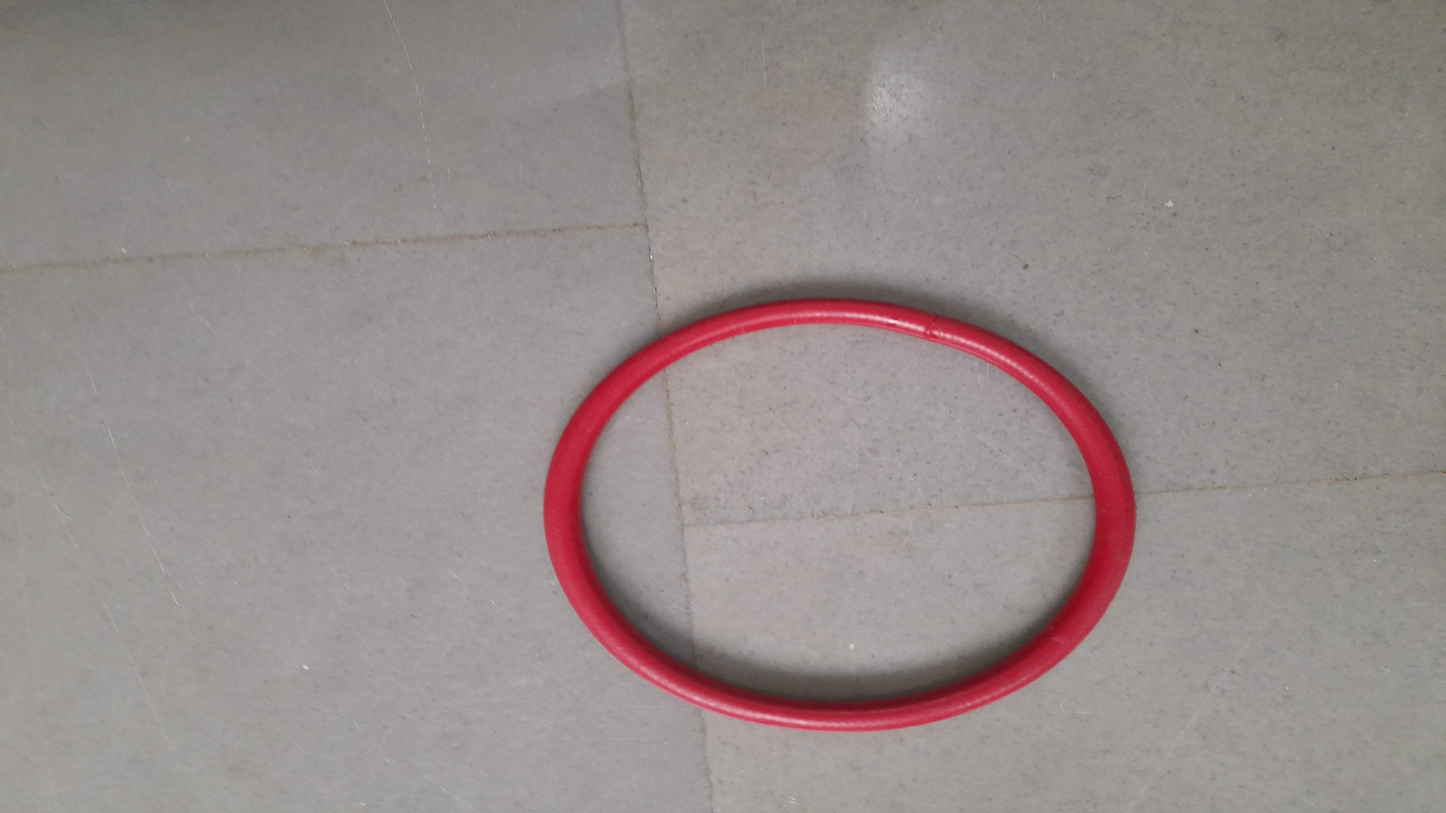Red ring: (542, 296, 1136, 729)
